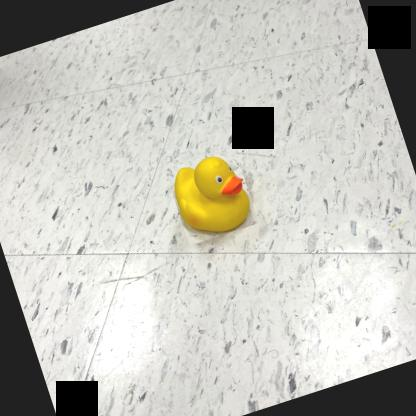duck: (165, 146, 259, 245)
